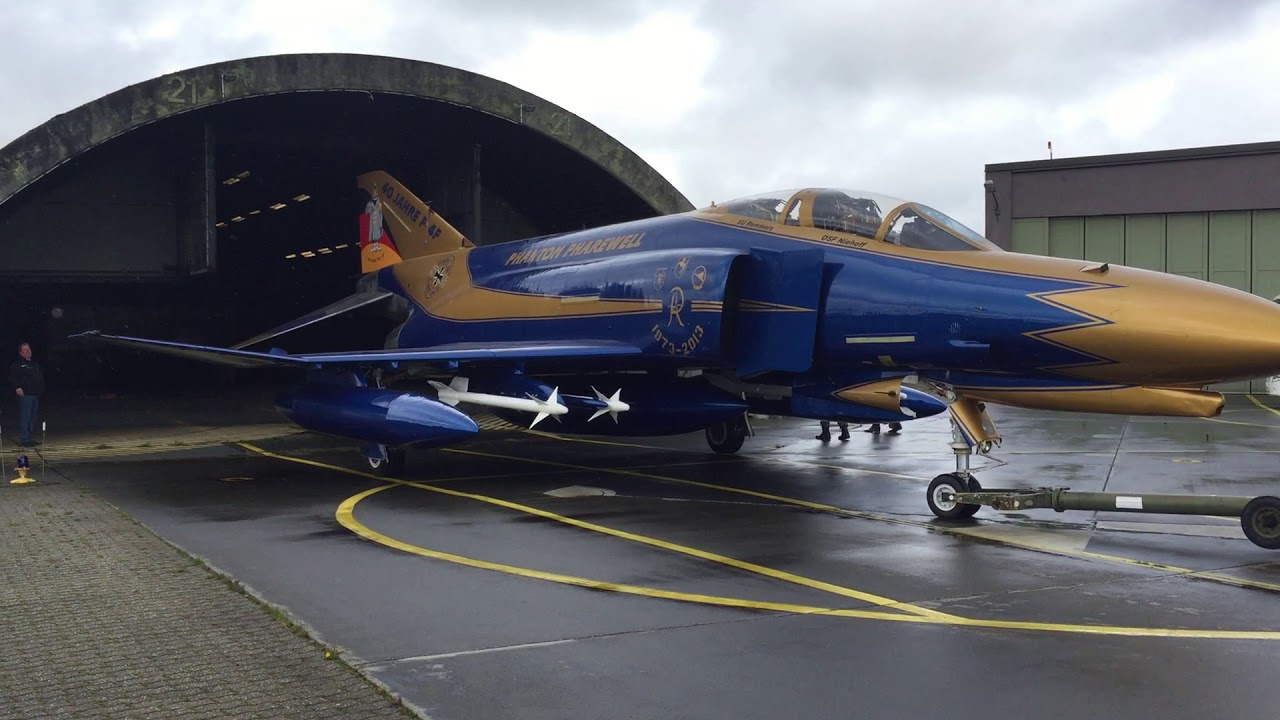F4: (67, 169, 1280, 518)
